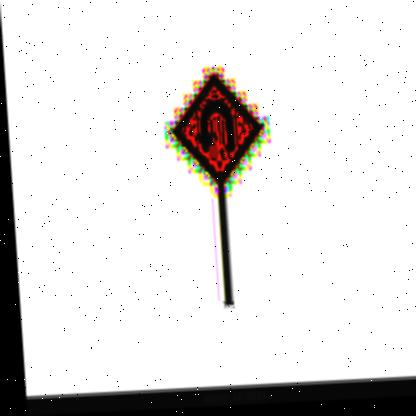U-turn: (166, 71, 264, 183)
